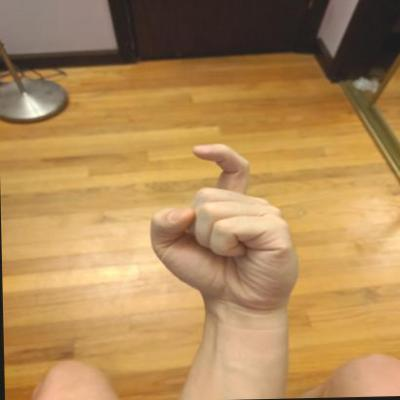hand: (144, 140, 304, 317)
